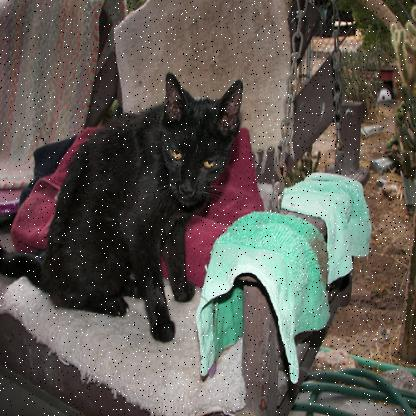cat: (6, 70, 242, 352)
